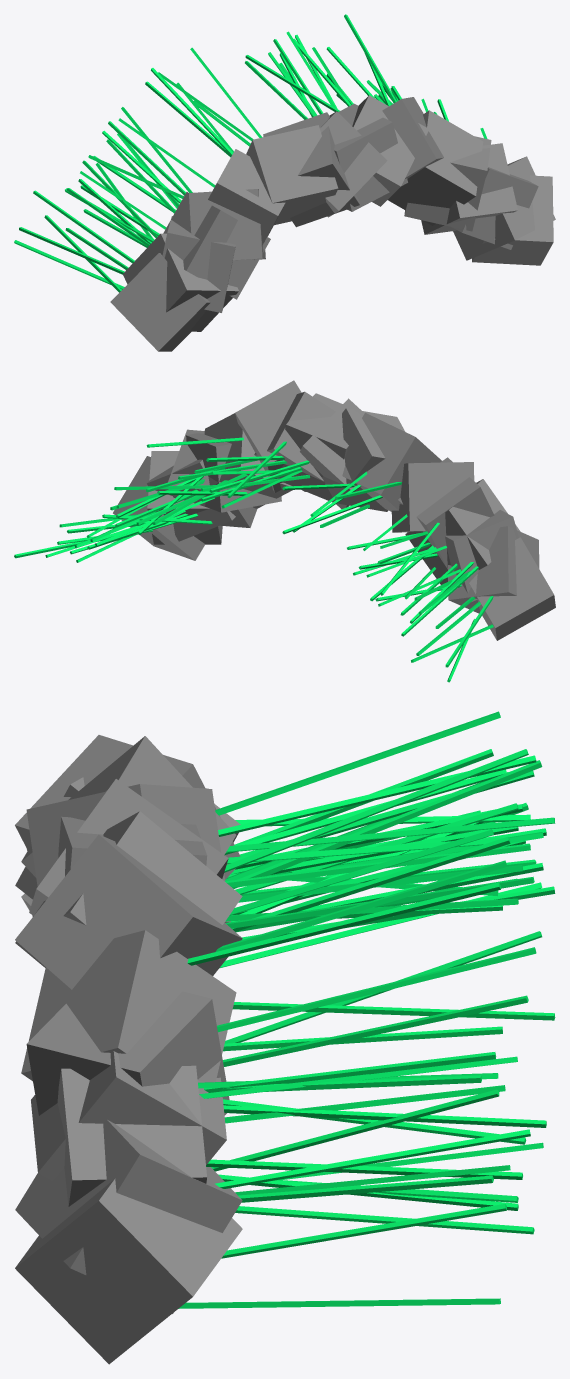
Rendered from flower.dae.
3 views of the same model, one above another, from view 1: azimuth 30°, elevation 25°; view 2: azimuth 150°, elevation 25°; view 3: azimuth 270°, elevation 25° (orthographic). The views are drawn at different scales.
Visible parts, largest first — view 1: Cube.081, Cube.089, Cube.028, Cube.085, Cube.086, Cube.087, Cube.024, Cube.079, Cube.078, Cube.023, Cube.088, Cube.027 (+14 smaller); view 2: Cube.089, Cube.081, Cube.085, Cube.087, Cube.079, Cube.077, Cube.086, Cube.084, Cube.024, Cube.080, Cube.078, Cube.074 (+10 smaller); view 3: Cube.024, Cube.077, Cube.028, Cube.026, Cube.023, Cube.027, Cube.025, Cube.074, Cube.079, Cube.080, Cube.081, Cube.085 (+48 smaller).
Boxes of the visible parts, left/top/right/bottom form: Cube.081: left=246, top=125, right=338, bottom=225; Cube.089: left=110, top=253, right=210, bottom=351; Cube.028: left=388, top=110, right=483, bottom=225; Cube.085: left=208, top=149, right=285, bottom=259; Cube.086: left=163, top=192, right=270, bottom=299; Cube.087: left=123, top=233, right=238, bottom=331; Cube.024: left=472, top=175, right=553, bottom=265; Cube.079: left=263, top=112, right=359, bottom=227; Cube.078: left=334, top=103, right=407, bottom=211; Cube.023: left=453, top=156, right=555, bottom=260; Cube.088: left=162, top=216, right=235, bottom=312; Cube.027: left=421, top=143, right=517, bottom=234; Cube.089: left=469, top=537, right=555, bottom=640; Cube.081: left=342, top=412, right=441, bottom=511; Cube.085: left=391, top=462, right=474, bottom=532; Cube.087: left=448, top=526, right=539, bottom=613; Cube.079: left=322, top=408, right=405, bottom=511; Cube.077: left=235, top=380, right=301, bottom=492; Cube.086: left=405, top=479, right=520, bottom=584; Cube.084: left=398, top=457, right=494, bottom=569; Cube.024: left=113, top=456, right=205, bottom=560; Cube.080: left=300, top=398, right=364, bottom=509; Cube.078: left=276, top=393, right=348, bottom=502; Cube.074: left=254, top=391, right=335, bottom=491; Cube.024: left=15, top=1178, right=242, bottom=1364; Cube.077: left=15, top=834, right=242, bottom=989; Cube.028: left=21, top=930, right=236, bottom=1082; Cube.026: left=26, top=991, right=229, bottom=1115; Cube.023: left=15, top=1120, right=242, bottom=1313; Cube.027: left=31, top=1051, right=226, bottom=1180; Cube.025: left=57, top=1065, right=207, bottom=1206; Cube.074: left=15, top=811, right=242, bottom=967; Cube.079: left=26, top=784, right=230, bottom=922; Cube.080: left=29, top=779, right=228, bottom=915; Cube.081: left=21, top=736, right=236, bottom=877; Cube.085: left=15, top=735, right=240, bottom=879.
Bounding box in the file's own units: 131 × 67.74 × 56.07.
